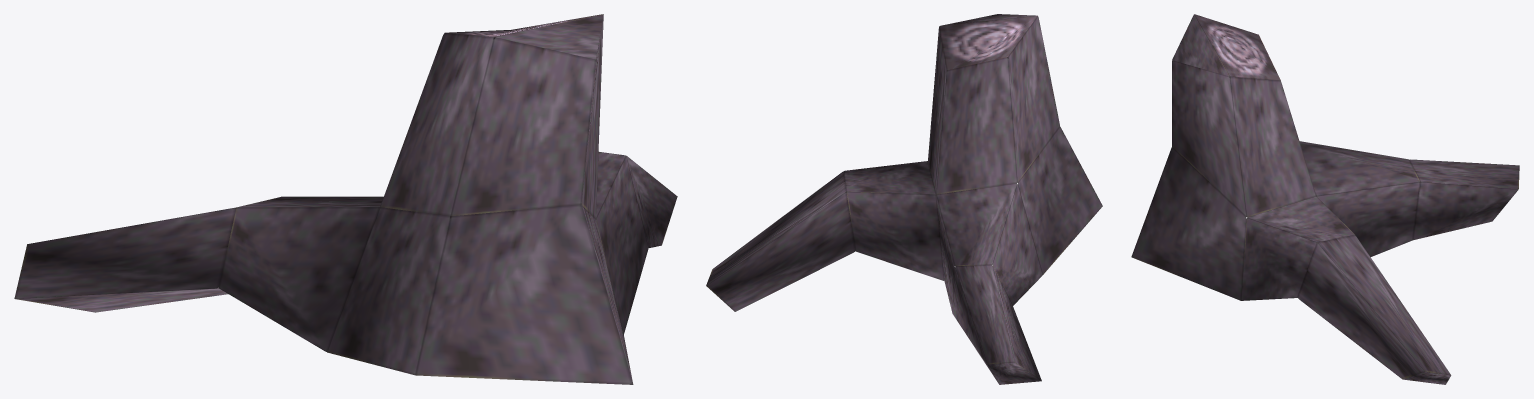
3 views of the same model, side by side, from view 1: azimuth 30°, elevation 25°; view 2: azimuth 150°, elevation 25°; view 3: azimuth 270°, elevation 25° (orthographic). The views are drawn at different scales.
Parts seen in each view (by area): view 1: T1L8M006_8; view 2: T1L8M006_8; view 3: T1L8M006_8.
Boxes of the visible parts, x1,y1,x2,y2 form: T1L8M006_8: [14, 14, 677, 384]; T1L8M006_8: [706, 14, 1102, 384]; T1L8M006_8: [1131, 14, 1519, 384].
Size of the model in its own units: 2.98 by 2 by 2.57.
